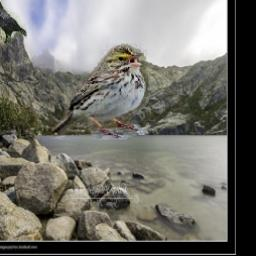Crow: (0, 0, 26, 43)
Sparrow: (51, 42, 148, 140)
